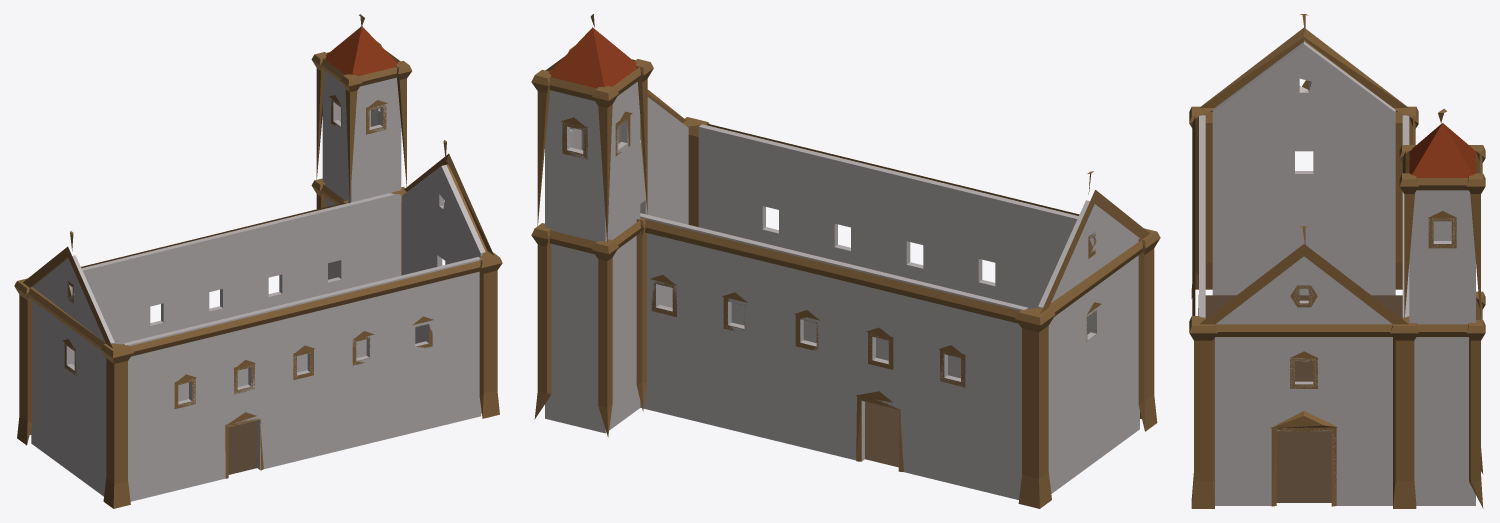
The model's file is chapel.lod2.glb.
3 renders of one model, left to right at view 1: azimuth 30°, elevation 25°; view 2: azimuth 150°, elevation 25°; view 3: azimuth 270°, elevation 25°, orthographic. The views are drawn at different scales.
Visible parts, largest first — view 1: Object_4; view 2: Object_4; view 3: Object_4.
Part boxes in pixels (left/top/right/bottom): Object_4: left=14, top=14, right=502, bottom=508; Object_4: left=531, top=14, right=1160, bottom=508; Object_4: left=1189, top=14, right=1485, bottom=508.
Size of the model in its own units: 12 by 9.67 by 6.78.
